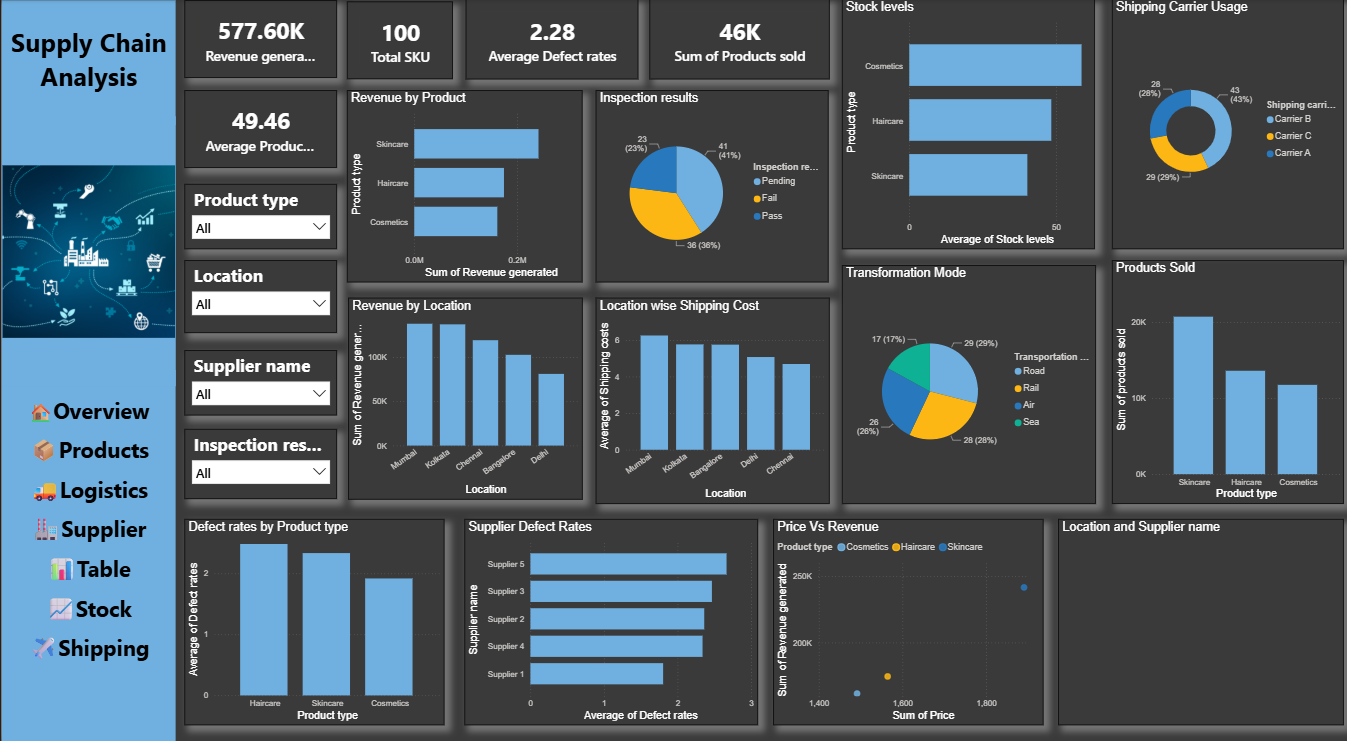

What the dashboard file says about the page in this screenshot:
{"tool":"powerbi","page":{"name":"Descriptive Analysis","canvas":[2000,1100],"ordinal":3},"visuals":[{"type":"cardVisual","fields":{"Data":["Sum(Cleaned Data.Revenue generated)"]},"box":[269.1,1.8,224.9,114.3],"z":0},{"type":"textbox","box":[0,547.6,256.2,553],"z":0,"group":"g1"},{"type":"cardVisual","fields":{"Data":["CountNonNull(Cleaned Data.SKU)"]},"box":[508.7,3.6,156.3,114.5],"z":1000},{"type":"image","box":[0,173.6,256.2,398],"z":1000,"group":"g1"},{"type":"cardVisual","fields":{"Data":["Avg(Cleaned Data.Defect rates)"]},"box":[683.1,0,254.4,118.1],"z":2000},{"type":"textbox","box":[0,2.1,256.2,184.3],"z":2000,"group":"g1"},{"type":"cardVisual","fields":{"Data":["Sum(Cleaned Data.Number of products sold)"]},"box":[953.9,0,265.3,118.1],"z":3000},{"type":"cardVisual","fields":{"Data":["Avg(Cleaned Data.Price)"]},"box":[269.1,134.6,224.9,114.3],"z":4000},{"type":"slicer","fields":{"Values":["Cleaned Data.Product type"]},"box":[269.1,272.8,224.9,95.8],"z":5000},{"type":"slicer","fields":{"Values":["Cleaned Data.Location"]},"box":[269.1,385.2,224.9,106.9],"z":6000},{"type":"slicer","fields":{"Values":["Cleaned Data.Supplier name"]},"box":[269.1,517.9,224.9,95.8],"z":7000},{"type":"slicer","fields":{"Values":["Cleaned Data.Inspection results"]},"box":[269.1,634.1,224.9,103.2],"z":8000},{"type":"clusteredBarChart","title":"Revenue by Product ","fields":{"Category":["Cleaned Data.Product type"],"Y":["Sum(Cleaned Data.Revenue generated)"]},"box":[508.7,134.4,347,283.4],"z":9000},{"type":"pieChart","title":"Inspection results ","fields":{"Category":["Cleaned Data.Inspection results"],"Y":["CountNonNull(Cleaned Data.Inspection results)"]},"box":[875.7,134.4,343.4,283.4],"z":10000},{"type":"clusteredColumnChart","title":"Revenue by Location","fields":{"Category":["Cleaned Data.Location"],"Y":["Sum(Cleaned Data.Revenue generated)"]},"box":[510.5,439.7,345.2,298],"z":11000},{"type":"scatterChart","title":"Price Vs Revenue ","fields":{"X":["Sum(Cleaned Data.Price)"],"Y":["Sum(Cleaned Data.Revenue generated)"],"Series":["Cleaned Data.Product type"]},"box":[1137.2,766.8,398.1,304.1],"z":12000},{"type":"columnChart","title":"Defect rates by Product type","fields":{"Y":["Avg(Cleaned Data.Defect rates)"],"Category":["Cleaned Data.Product type"]},"box":[269.1,766.8,383.4,304.1],"z":13000},{"type":"barChart","title":"Stock levels ","fields":{"Category":["Cleaned Data.Product type"],"Y":["Avg(Cleaned Data.Stock levels)"]},"box":[1239.1,0,372.5,368.8],"z":14000},{"type":"clusteredColumnChart","title":"Products Sold","fields":{"Category":["Cleaned Data.Product type"],"Y":["Sum(Cleaned Data.Number of products sold)"]},"box":[1636.7,385.2,342.8,359.4],"z":15000},{"type":"donutChart","title":"Shipping Carrier Usage","fields":{"Category":["Cleaned Data.Shipping carriers"],"Y":["CountNonNull(Cleaned Data.Shipping carriers)"]},"box":[1637,0,343.4,368.8],"z":16000},{"type":"pieChart","title":"Transformation Mode ","fields":{"Category":["Cleaned Data.Transportation modes"],"Y":["CountNonNull(Cleaned Data.Transportation modes)"]},"box":[1238.6,392.6,374.2,352],"z":17000},{"type":"clusteredBarChart","title":"Supplier Defect Rates ","fields":{"Y":["Avg(Cleaned Data.Defect rates)"],"Category":["Cleaned Data.Supplier name"]},"box":[682,766.8,433.1,304.1],"z":18000},{"type":"clusteredColumnChart","title":"Location wise Shipping Cost","fields":{"Category":["Cleaned Data.Location"],"Y":["Avg(Cleaned Data.Shipping costs)"]},"box":[875.5,440.5,344.7,304.1],"z":19000},{"type":"group","id":"g1","title":"Group 1","box":[0,2.1,256.2,1098.4],"z":20000},{"type":"filledMap","fields":{"Category":["Cleaned Data.Location"],"Series":["Cleaned Data.Supplier name"]},"box":[1557.5,766.8,422.1,304.1],"z":21000}]}

Visuals, with their boxes in screenshot pixels (x1, y1, x2, y2), scaled from the page's 2000x1100 canvas onto the 1347x741 screenshot:
cardVisual - Sum(Cleaned Data.Revenue generated): <bbox>181, 1, 333, 78</bbox>
textbox: <bbox>0, 369, 173, 740</bbox>
cardVisual - CountNonNull(Cleaned Data.SKU): <bbox>343, 2, 448, 80</bbox>
image: <bbox>0, 117, 173, 385</bbox>
cardVisual - Avg(Cleaned Data.Defect rates): <bbox>460, 0, 631, 80</bbox>
textbox: <bbox>0, 1, 173, 126</bbox>
cardVisual - Sum(Cleaned Data.Number of products sold): <bbox>642, 0, 821, 80</bbox>
cardVisual - Avg(Cleaned Data.Price): <bbox>181, 91, 333, 168</bbox>
slicer - Cleaned Data.Product type: <bbox>181, 184, 333, 248</bbox>
slicer - Cleaned Data.Location: <bbox>181, 259, 333, 331</bbox>
slicer - Cleaned Data.Supplier name: <bbox>181, 349, 333, 413</bbox>
slicer - Cleaned Data.Inspection results: <bbox>181, 427, 333, 497</bbox>
"Revenue by Product " clusteredBarChart: <bbox>343, 91, 576, 281</bbox>
"Inspection results " pieChart: <bbox>590, 91, 821, 281</bbox>
"Revenue by Location" clusteredColumnChart: <bbox>344, 296, 576, 497</bbox>
"Price Vs Revenue " scatterChart: <bbox>766, 517, 1034, 721</bbox>
"Defect rates by Product type" columnChart: <bbox>181, 517, 439, 721</bbox>
"Stock levels " barChart: <bbox>835, 0, 1085, 248</bbox>
"Products Sold" clusteredColumnChart: <bbox>1102, 259, 1333, 502</bbox>
"Shipping Carrier Usage" donutChart: <bbox>1103, 0, 1334, 248</bbox>
"Transformation Mode " pieChart: <bbox>834, 264, 1086, 502</bbox>
"Supplier Defect Rates " clusteredBarChart: <bbox>459, 517, 751, 721</bbox>
"Location wise Shipping Cost" clusteredColumnChart: <bbox>590, 297, 822, 502</bbox>
"Group 1" group: <bbox>0, 1, 173, 740</bbox>
filledMap - Cleaned Data.Location x Cleaned Data.Supplier name: <bbox>1049, 517, 1333, 721</bbox>
